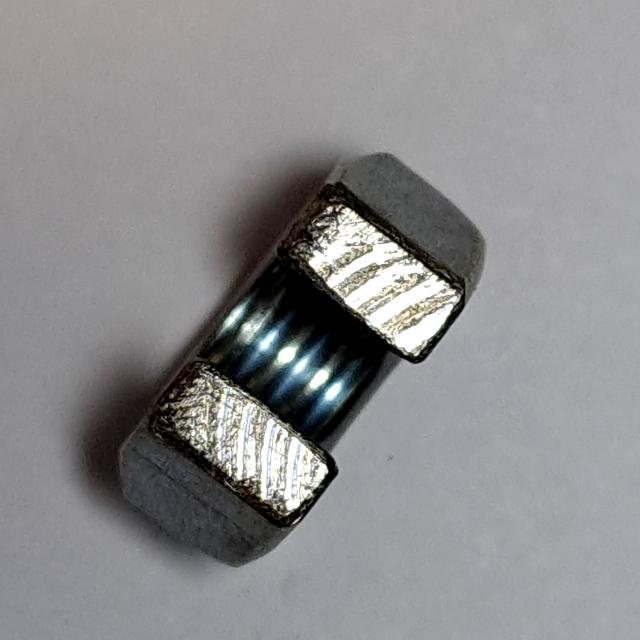Side-Fracture: (104, 141, 500, 581)
